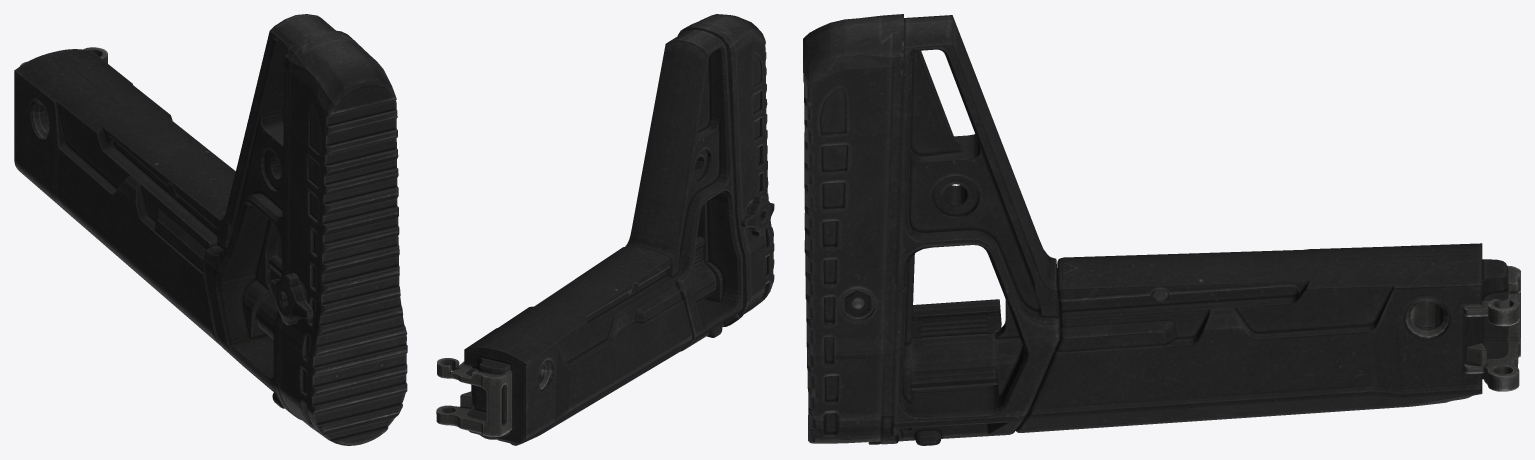
3 renders of one model, left to right at view 1: azimuth 30°, elevation 25°; view 2: azimuth 150°, elevation 25°; view 3: azimuth 270°, elevation 25°, orthographic. The views are drawn at different scales.
Visible parts, largest first — view 1: TW_6761779c48fa5c377e06fc3f_PZ_Import; view 2: TW_6761779c48fa5c377e06fc3f_PZ_Import; view 3: TW_6761779c48fa5c377e06fc3f_PZ_Import.
Part boxes in pixels (x1,y1,x2,y2): TW_6761779c48fa5c377e06fc3f_PZ_Import: (14, 14, 407, 445); TW_6761779c48fa5c377e06fc3f_PZ_Import: (436, 14, 774, 445); TW_6761779c48fa5c377e06fc3f_PZ_Import: (803, 14, 1520, 445).
Bounding box in the file's own units: 0.0253 × 0.122 × 0.0784.
Materials: 1 (1 with a texture image).
